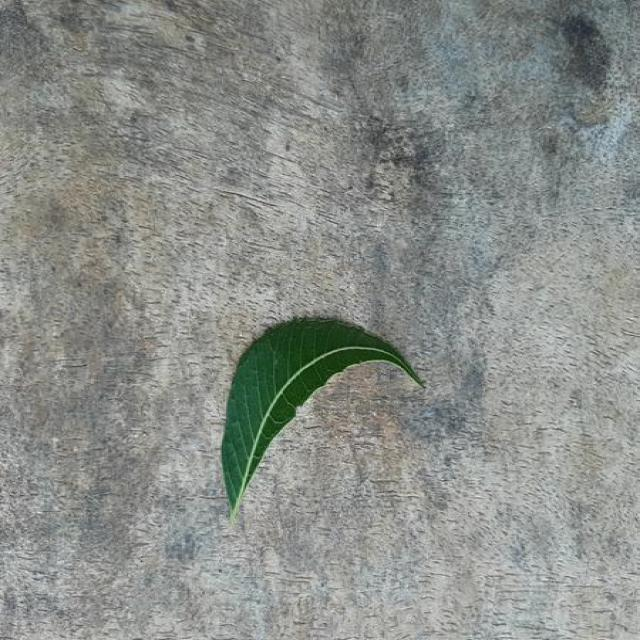neem: (222, 319, 423, 518)
